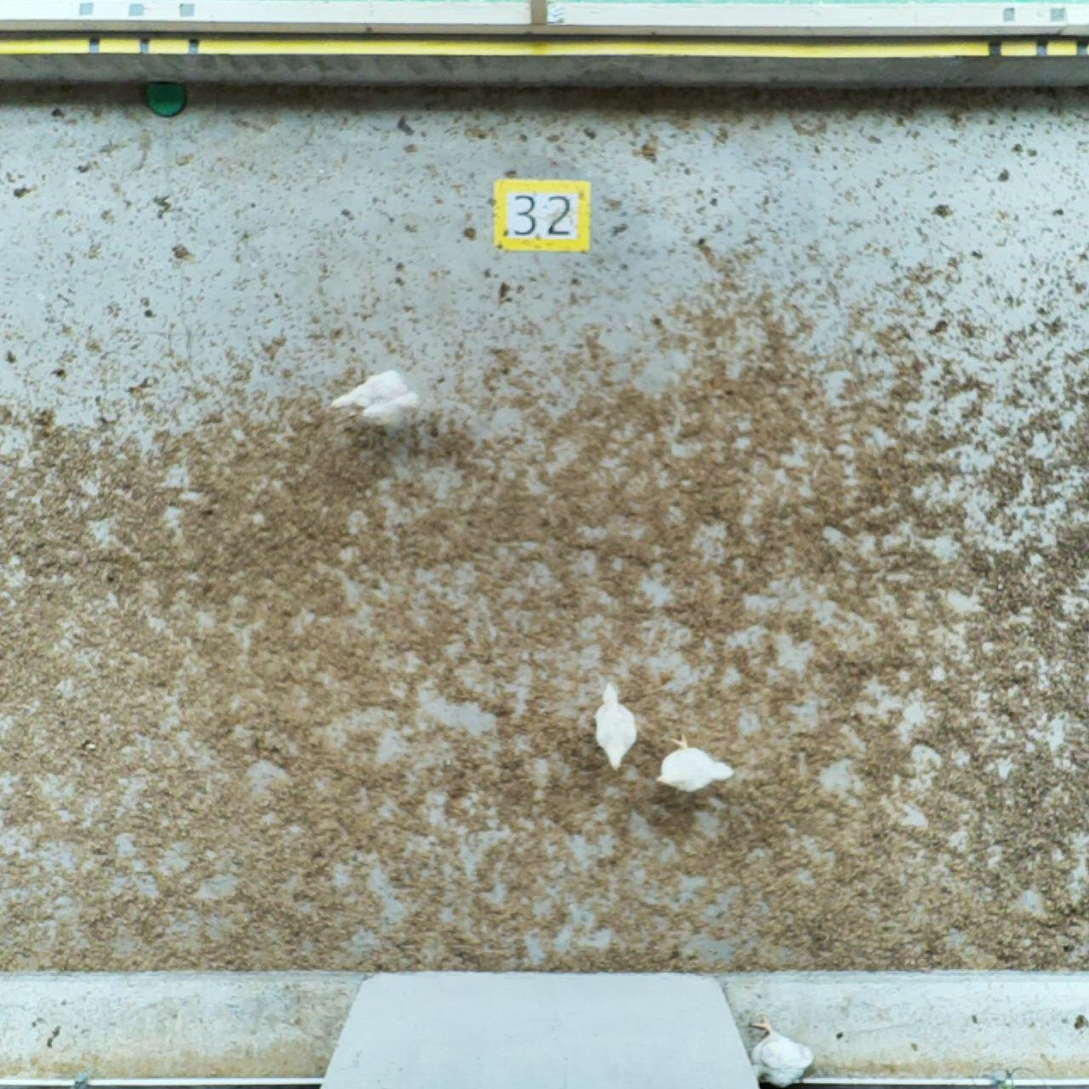chicken: (327, 369, 422, 436), (746, 1012, 816, 1084), (589, 681, 642, 773), (658, 745, 735, 797)
